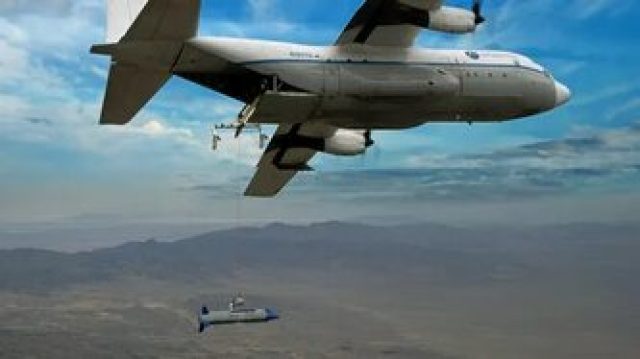military drone: (89, 0, 570, 196)
